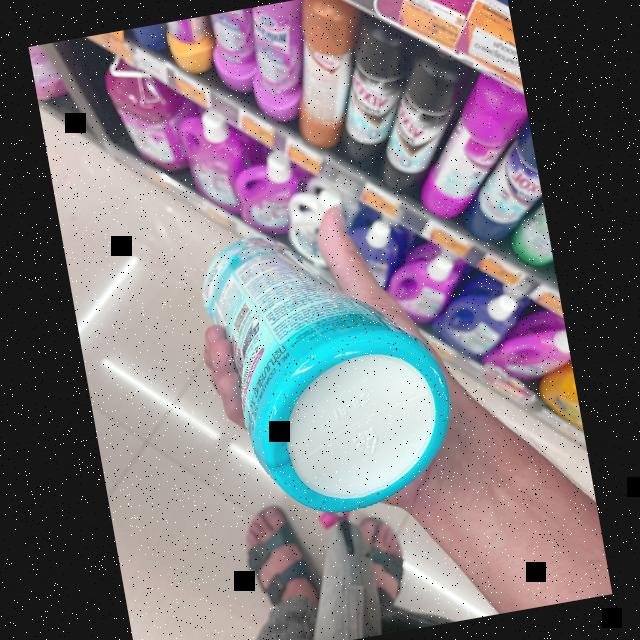chemical_plastic_bottle: (186, 198, 481, 539)
